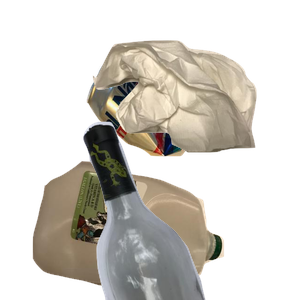glass: (81, 120, 300, 300)
metal: (84, 53, 279, 202)
plastic: (30, 159, 247, 300)
trash: (90, 38, 300, 183)
